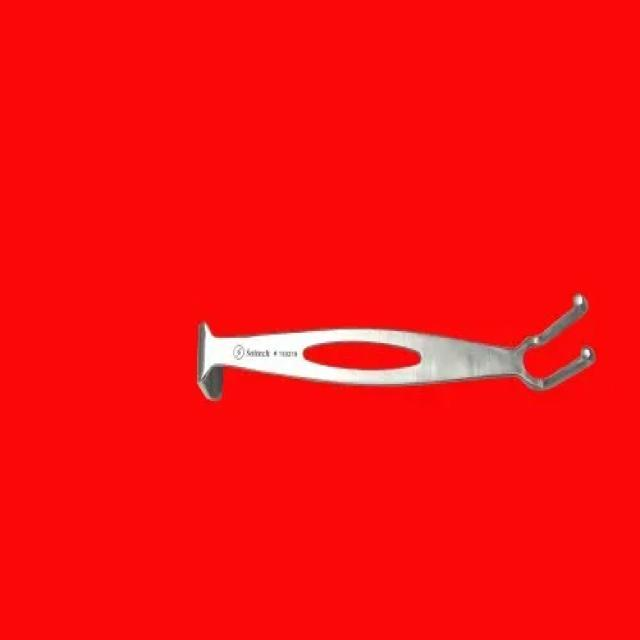Czerny Retractor: (197, 291, 598, 419)
